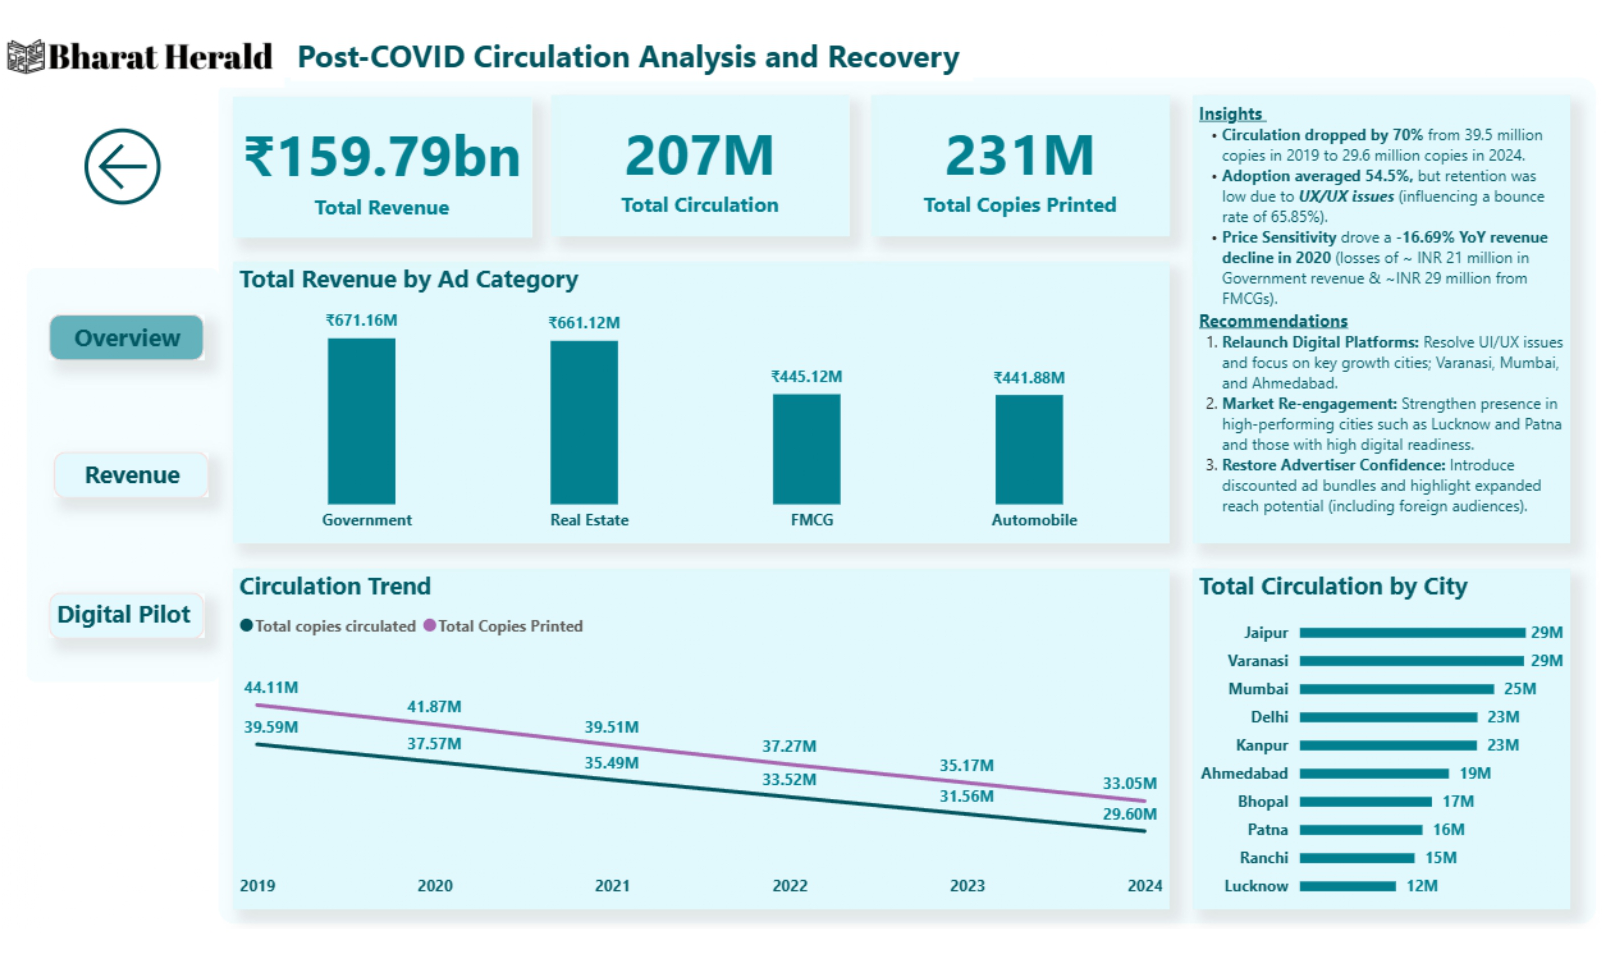

The dashboard page shown, as its layout file describes it:
{"tool":"powerbi","page":{"name":"Overview","canvas":[1280,720],"ordinal":0},"visuals":[{"type":"group","id":"g1","title":"Group 1","box":[29,50,1226.8,661.7],"z":0},{"type":"shape","box":[29,198.9,150.7,323.8],"z":0,"group":"g1"},{"type":"shape","box":[179.1,50,1076.7,661.7],"z":1000,"group":"g1"},{"type":"card","fields":{"Values":["bharat_herald vw_northstar_metrics.total_revenue"]},"box":[190,65,233.3,110],"z":1000},{"type":"card","fields":{"Values":["bharat_herald vw_northstar_metrics.total_circulation"]},"box":[439.3,63.8,233,110],"z":2000},{"type":"card","fields":{"Values":["bharat_herald vw_northstar_metrics.total_printed"]},"box":[688.3,63.3,233.3,110],"z":3000},{"type":"clusteredColumnChart","title":"Total Revenue by Ad Category","fields":{"Category":["bharat_herald vw_ad_revenue_by_category.ad_category"],"Y":["bharat_herald vw_ad_revenue_by_category.total_revenue"]},"box":[190,193.3,731.7,220],"z":4000},{"type":"clusteredBarChart","title":"Total Circulation by City","fields":{"Category":["bharat_herald vw_city_level_revenue_performance.city"],"Y":["bharat_herald vw_print_circulation_trends.total_net_circulation"]},"box":[940,433.3,295,266.7],"z":5000},{"type":"image","box":[0,1.7,235,61.7],"z":6000},{"type":"lineChart","title":"Circulation Trend","fields":{"Category":["bharat_herald vw_print_circulation_trends (2).year"],"Y":["bharat_herald vw_print_circulation_trends (2).total_net_circulation","bharat_herald vw_print_circulation_trends.copies_printed"]},"box":[190,433.3,731.7,266.7],"z":7000},{"type":"textbox","box":[940,63.3,295,350],"z":8000},{"type":"actionButton","box":[66.7,81.7,75,76.7],"z":9000},{"type":"shape","box":[46.8,452,121.2,36.4],"z":10000},{"type":"textbox","box":[41.7,451.7,126.7,36.7],"z":11000},{"type":"shape","box":[46.8,235.5,121.2,36.4],"z":12000},{"type":"textbox","box":[60,235,95,36.7],"z":13000},{"type":"shape","box":[50.2,342.9,121,36.4],"z":14000},{"type":"actionButton","box":[61.7,240,95,31.7],"z":15000},{"type":"textbox","box":[65.8,342.9,90,34.6],"z":16000},{"type":"actionButton","box":[57.1,346.3,105.6,31.2],"z":17000},{"type":"actionButton","box":[61.7,455,95,25],"z":18000},{"type":"textbox","box":[235,11.2,705,42.5],"z":19000}]}

Visuals, with their boxes on the page's 1280x720 design canvas (x1, y1, x2, y2). These are canvas units, not pixel positions in the 1620x967 screenshot, which may show the page scaled, cropped or inside an application window:
"Group 1" group: locate(29, 50, 1256, 712)
shape: locate(29, 199, 180, 523)
shape: locate(179, 50, 1256, 712)
card - bharat_herald vw_northstar_metrics.total_revenue: locate(190, 65, 423, 175)
card - bharat_herald vw_northstar_metrics.total_circulation: locate(439, 64, 672, 174)
card - bharat_herald vw_northstar_metrics.total_printed: locate(688, 63, 922, 173)
"Total Revenue by Ad Category" clusteredColumnChart: locate(190, 193, 922, 413)
"Total Circulation by City" clusteredBarChart: locate(940, 433, 1235, 700)
image: locate(0, 2, 235, 63)
"Circulation Trend" lineChart: locate(190, 433, 922, 700)
textbox: locate(940, 63, 1235, 413)
actionButton: locate(67, 82, 142, 158)
shape: locate(47, 452, 168, 488)
textbox: locate(42, 452, 168, 488)
shape: locate(47, 236, 168, 272)
textbox: locate(60, 235, 155, 272)
shape: locate(50, 343, 171, 379)
actionButton: locate(62, 240, 157, 272)
textbox: locate(66, 343, 156, 378)
actionButton: locate(57, 346, 163, 378)
actionButton: locate(62, 455, 157, 480)
textbox: locate(235, 11, 940, 54)
